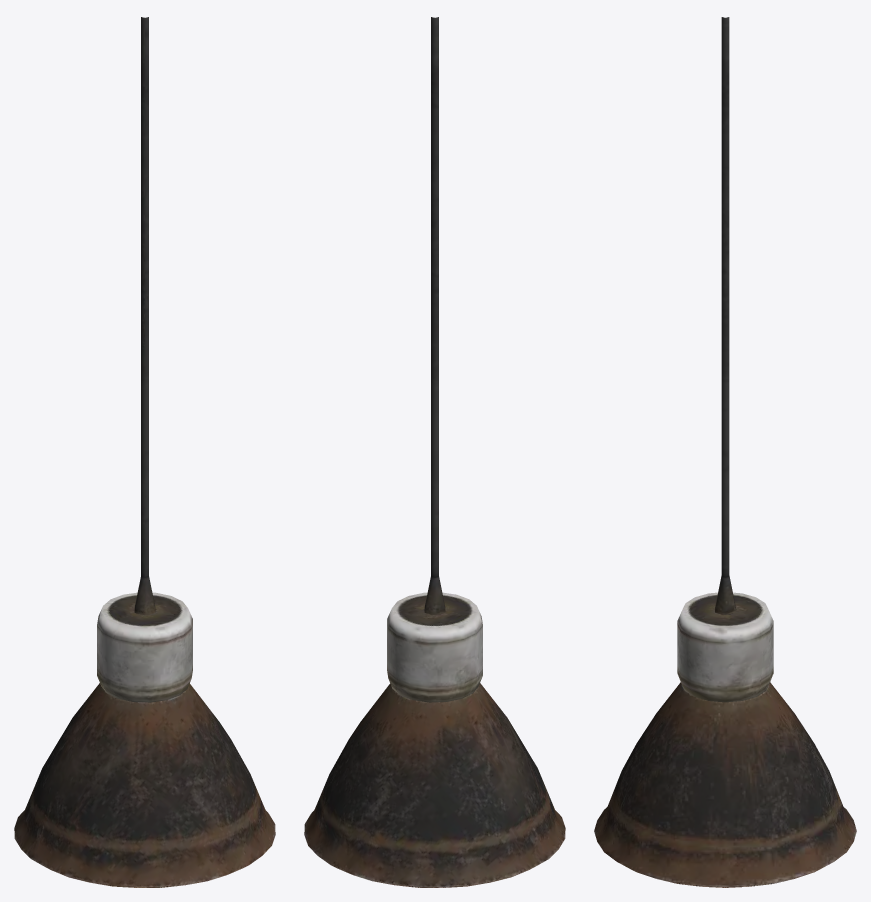
The model's file is plight.industrial.ceiling.lamp.on.glb.
The picture shows the model from 3 angles, left to right: view 1: azimuth 30°, elevation 25°; view 2: azimuth 150°, elevation 25°; view 3: azimuth 270°, elevation 25°; orthographic projection.
Parts seen in each view (by area): view 1: mesh (plight ceiling); view 2: mesh (plight ceiling); view 3: mesh (plight ceiling).
Part boxes in pixels (x1,y1,x2,y2): mesh (plight ceiling): [14, 17, 275, 887]; mesh (plight ceiling): [304, 17, 565, 887]; mesh (plight ceiling): [594, 17, 856, 887].
Size of the model in its own units: 0.8024 by 2.76 by 0.8024.
1 material, 1 textured.
